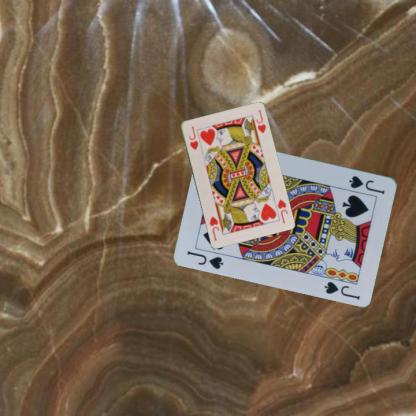Jh: (274, 196, 288, 225), (186, 124, 199, 150)
Js: (185, 248, 225, 270), (347, 173, 386, 195)
